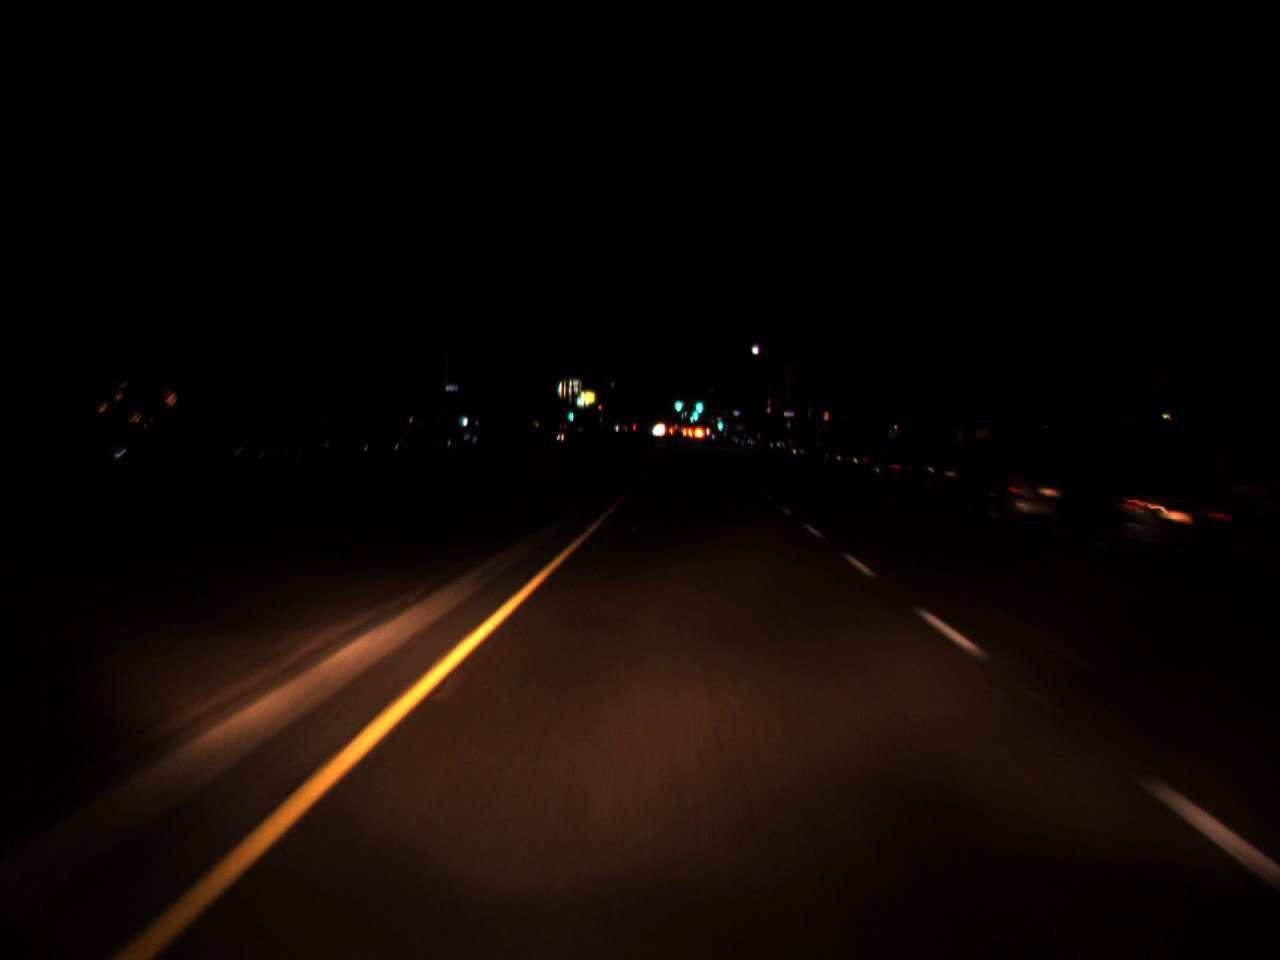go: (692, 388, 703, 418), (687, 398, 699, 425), (673, 387, 683, 417), (716, 412, 723, 433), (566, 405, 573, 423)
